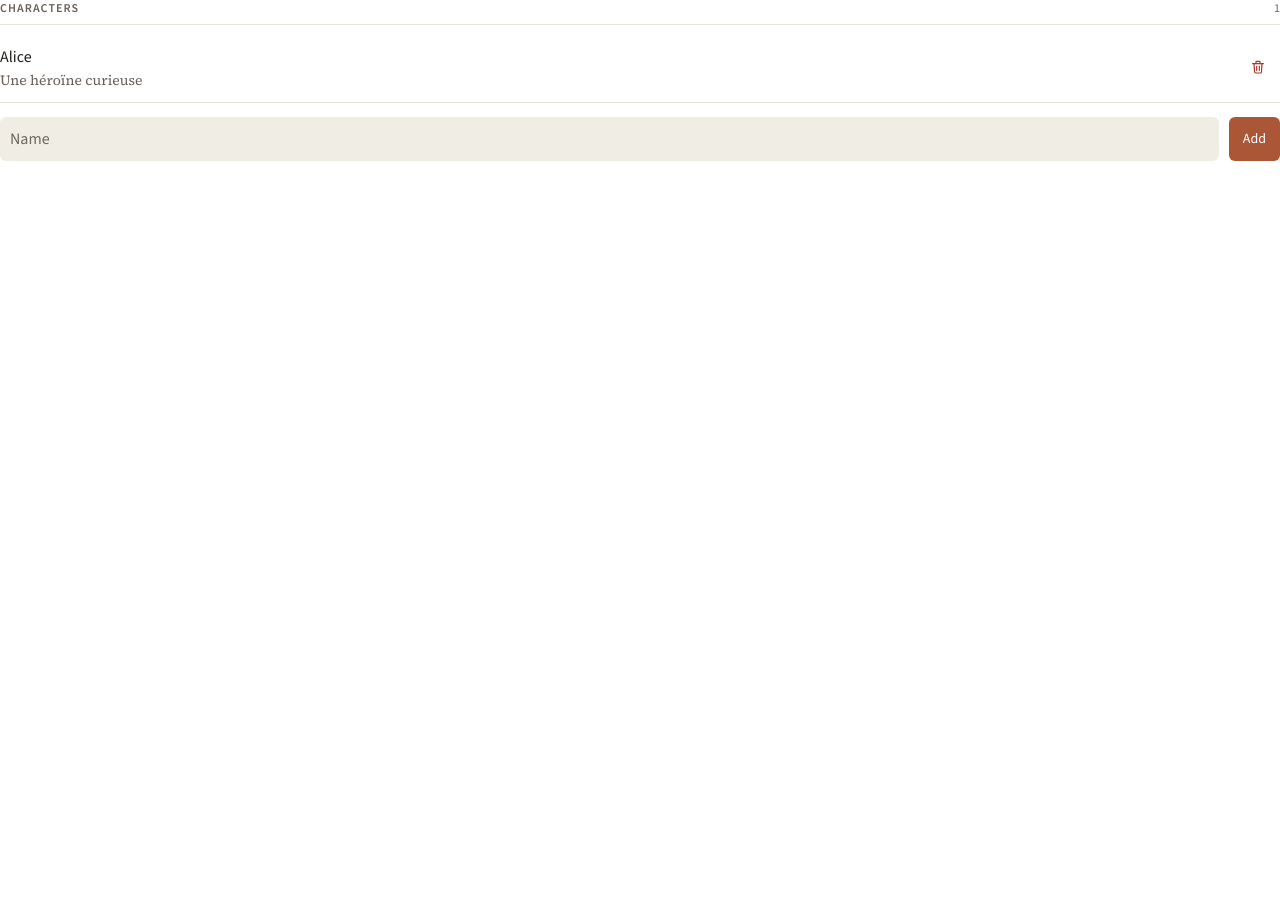
Scenario: CharactersPanel › asks for confirmation before deleting, and does not delete until confirmed
The width and height of the screenshot is (1280, 900).
Expected: the text "Alice" is shown, [0,46,32,67]
Click the button with test id "character-delete-button" at (1258, 67), box [1236,45,1279,89]
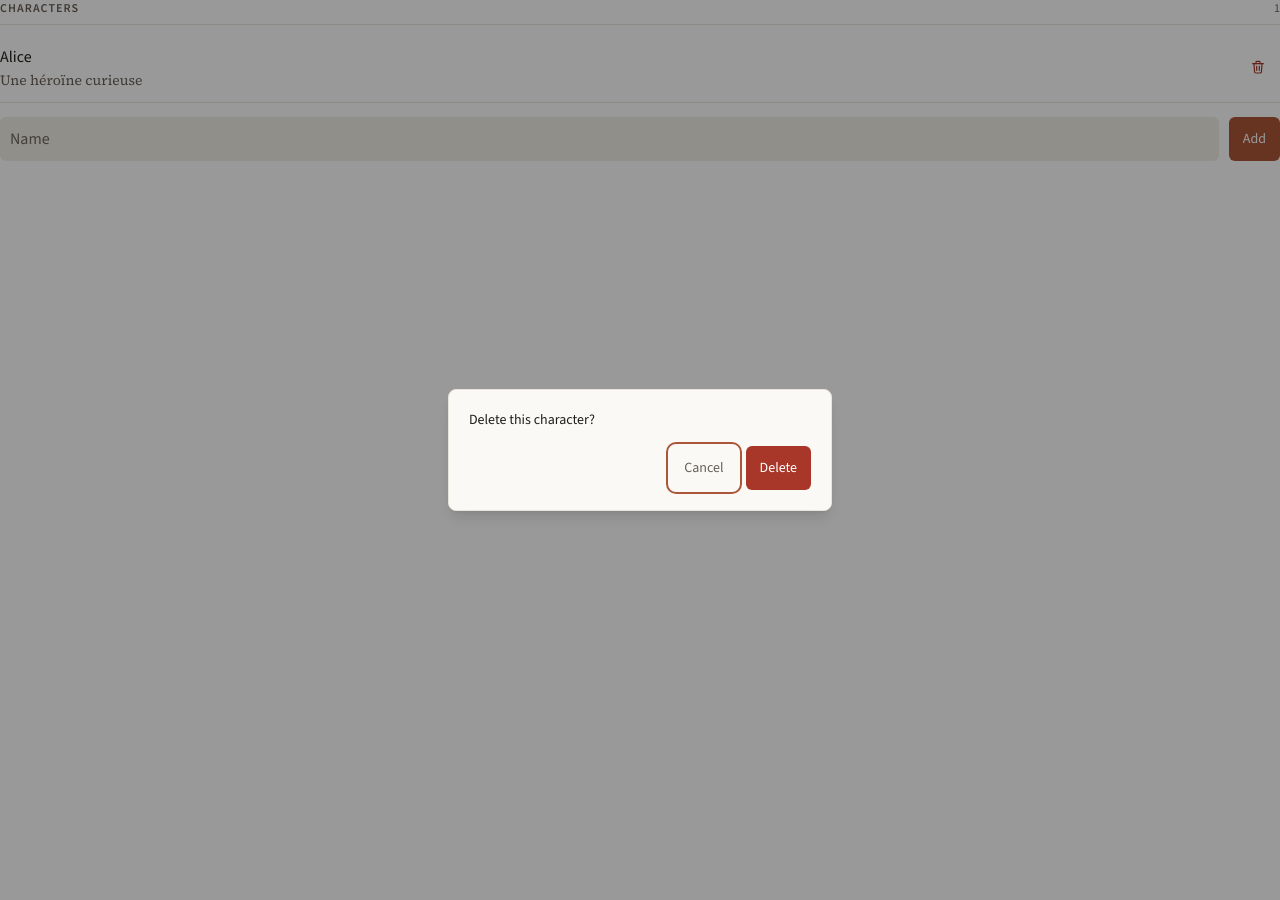
Expected: the link with test id "character-item" is shown, [0,46,142,90]
Expected: the dialog with test id "confirm-dialog" is shown, [448,389,832,511]
Click the button with test id "confirm-dialog-confirm" at (778, 468), box [746,446,811,490]
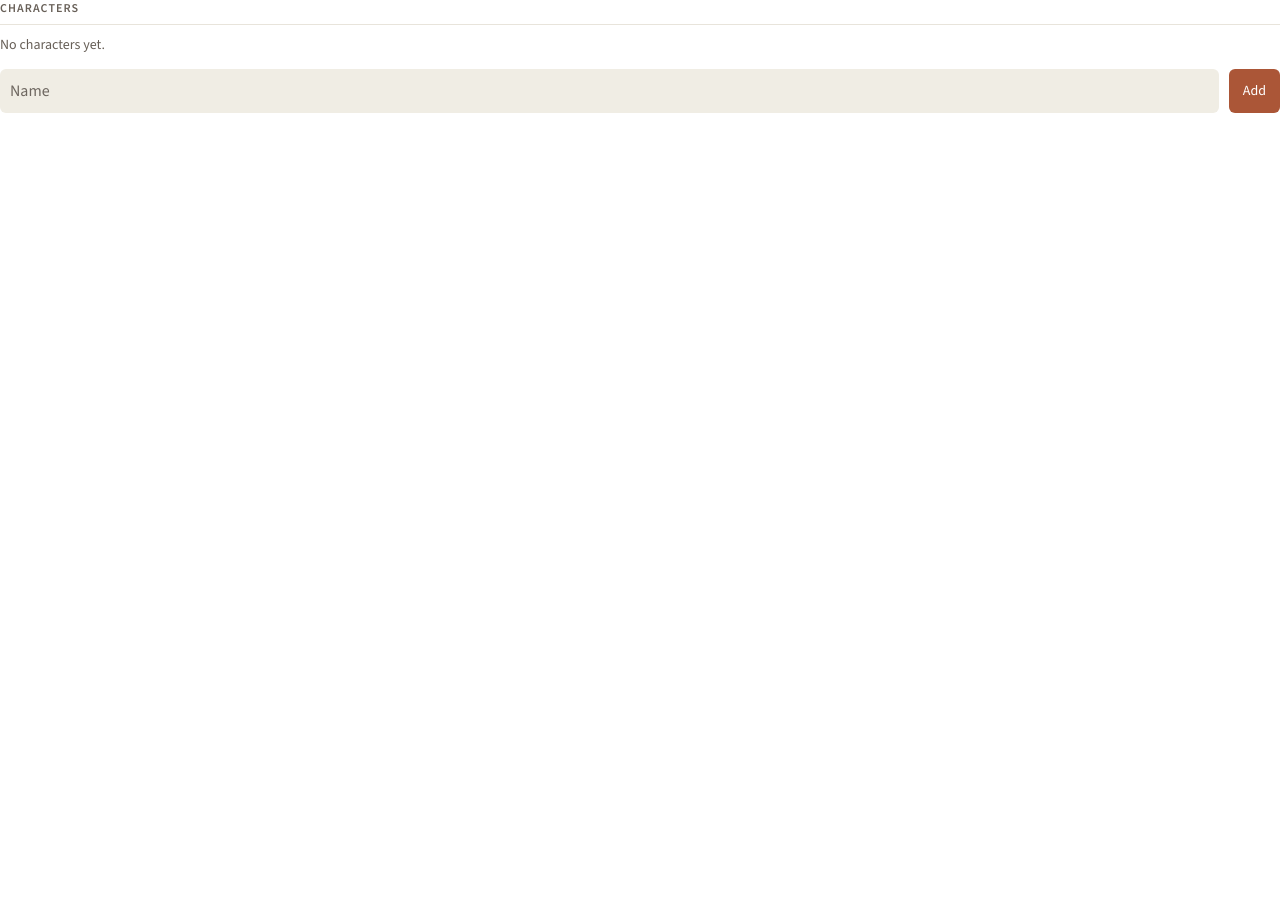
Expected: the link with test id "character-item" is gone
